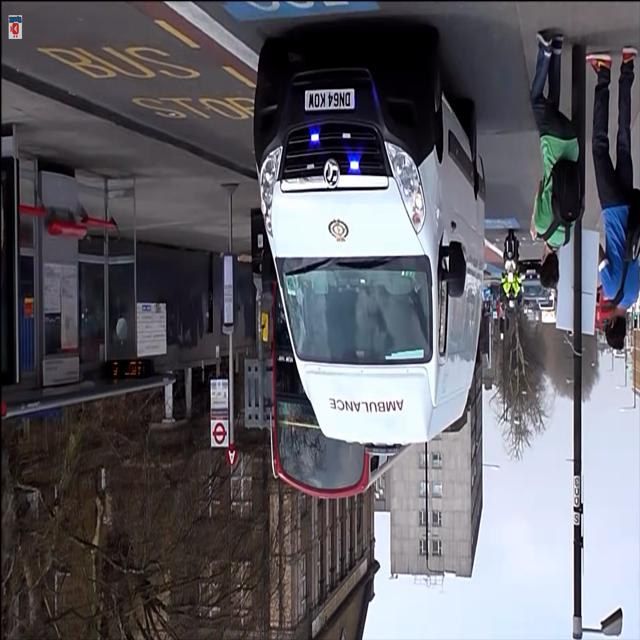emergency-vehicles: (218, 17, 506, 455)
